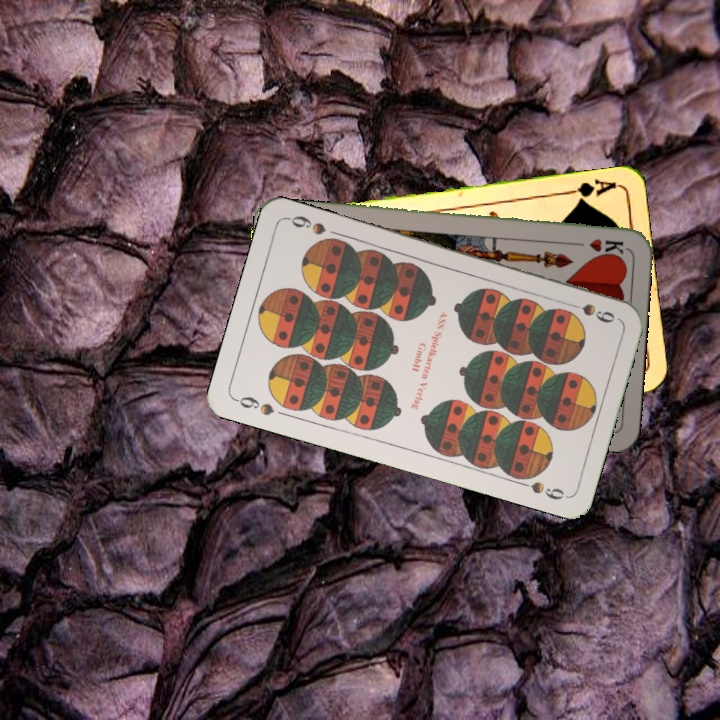GA: (560, 176, 619, 206)
HK: (568, 234, 626, 257)
S9: (561, 298, 618, 326), (231, 392, 277, 418)
